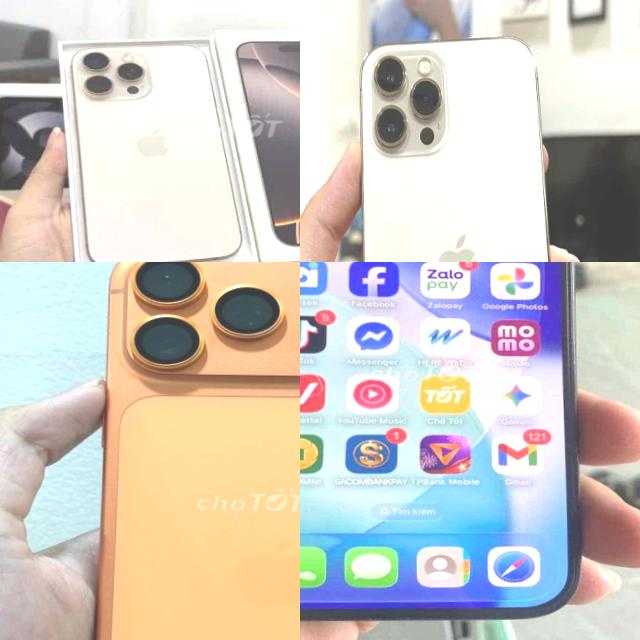gen_12_13: (351, 31, 578, 262)
gen_15: (300, 262, 595, 635)
gen_16: (58, 39, 255, 262)
gen_17: (84, 262, 300, 640)
